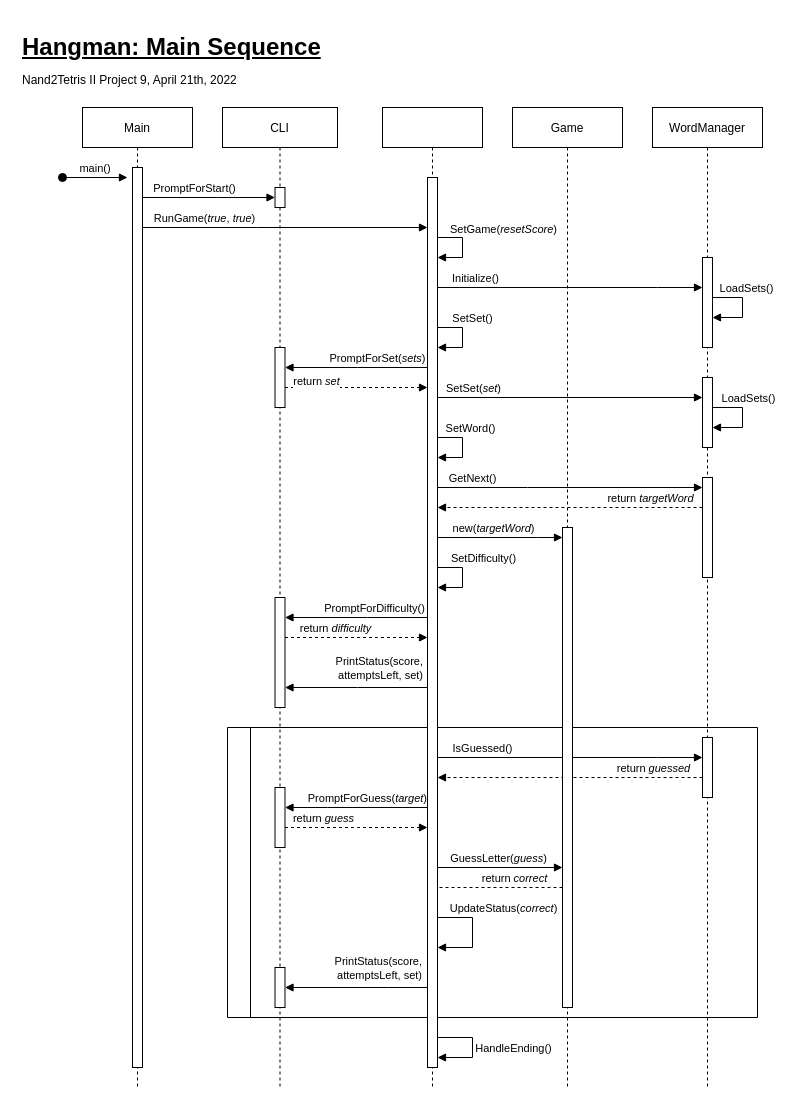
Some shapes in this 792 by 1105 pixel diagram are drawn without their labels. Each missing label, with the box of its shape:
GameManager: (382, 106, 482, 1088)
guess loop: (226, 726, 758, 1018)
